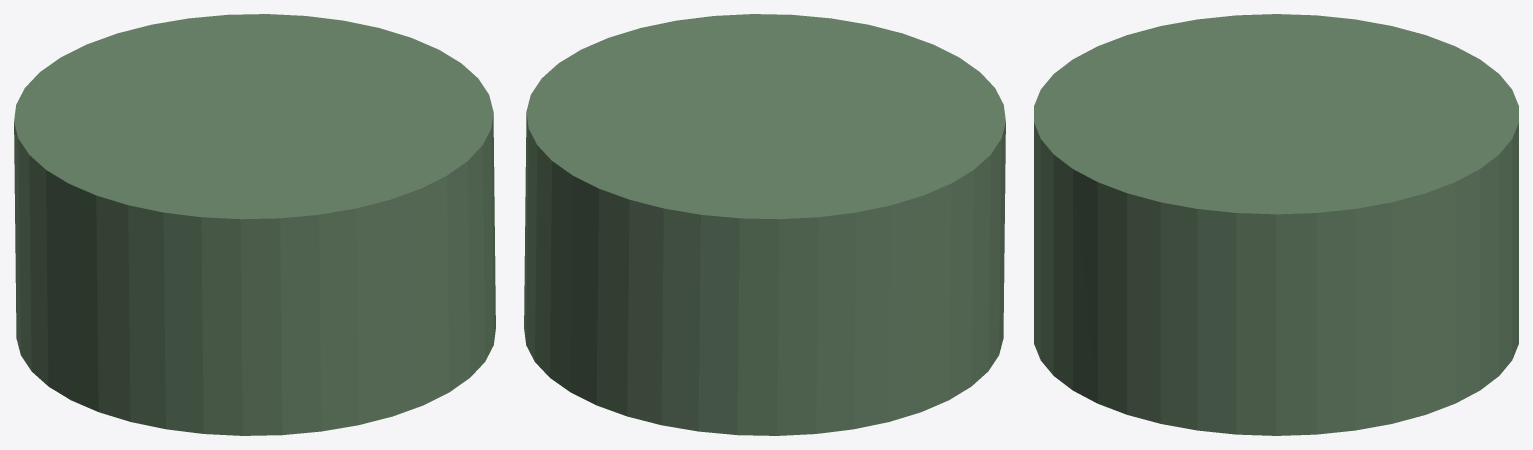
Rendered from left_steering.dae.
3 renders of one model, left to right at view 1: azimuth 30°, elevation 25°; view 2: azimuth 150°, elevation 25°; view 3: azimuth 270°, elevation 25°, orthographic.
Visible parts, largest first — view 1: left_steering; view 2: left_steering; view 3: left_steering.
Boxes of the visible parts, x1,y1,x2,y2 form: left_steering: (14,14,495,435); left_steering: (524,14,1005,435); left_steering: (1034,14,1518,435).
Size of the model in its own units: 0.1533 by 0.1519 by 0.078.
